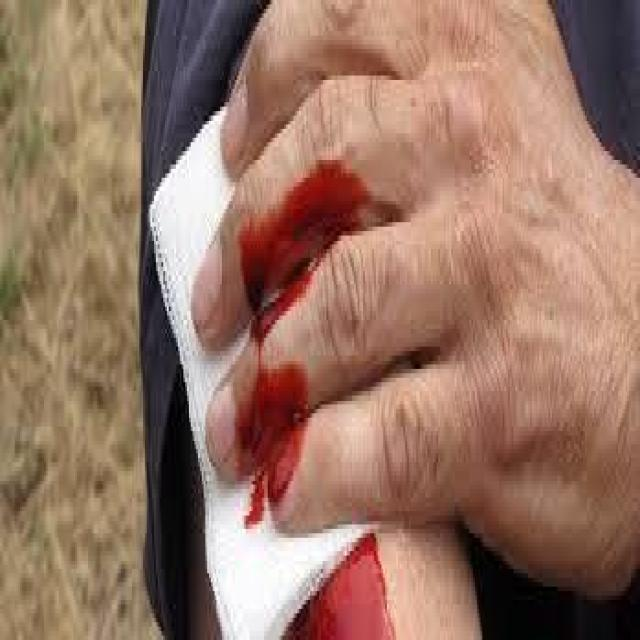flood: (208, 171, 406, 538), (311, 552, 413, 640)
